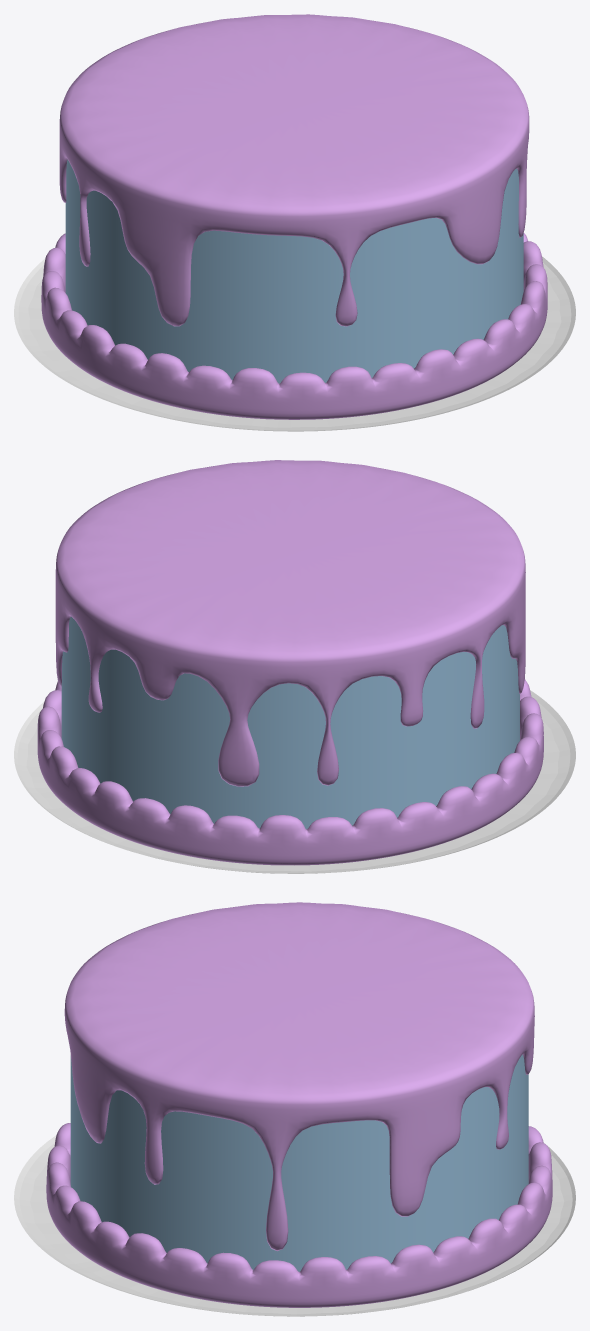
The model's file is uploads_files_3266114_cartoon+cake.fbx.
The picture shows the model from 3 angles, top to bottom: view 1: azimuth 30°, elevation 25°; view 2: azimuth 150°, elevation 25°; view 3: azimuth 270°, elevation 25°; orthographic projection.
Parts seen in each view (by area): view 1: cake, plate; view 2: cake, plate; view 3: cake, plate.
Boxes of the visible parts, x1,y1,x2,y2 form: cake: (41, 14, 547, 419); plate: (14, 256, 575, 431); cake: (37, 460, 543, 865); plate: (14, 690, 575, 873); cake: (46, 902, 552, 1307); plate: (14, 1135, 575, 1316).
Size of what is drawn, in the model's own units: 244 by 102 by 244.
